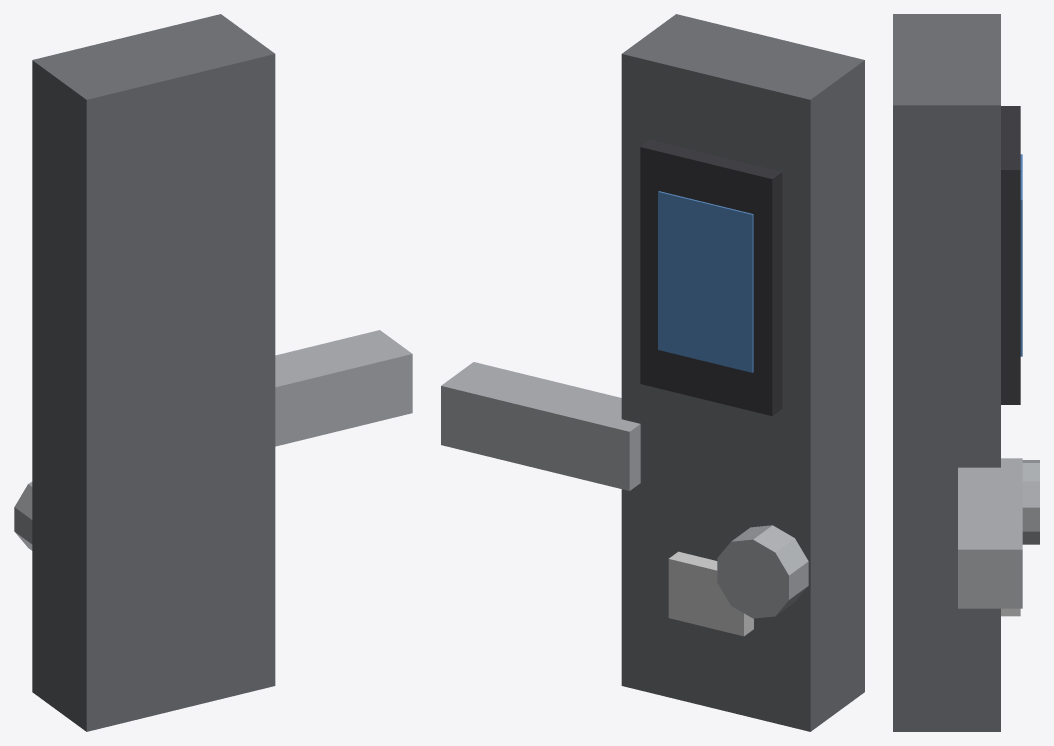
The model's file is eld_fechadura.glb.
3 renders of one model, left to right at view 1: azimuth 30°, elevation 25°; view 2: azimuth 150°, elevation 25°; view 3: azimuth 270°, elevation 25°, orthographic.
Visible parts, largest first — view 1: ELD_FECHADURA_v01; view 2: ELD_FECHADURA_v01; view 3: ELD_FECHADURA_v01.
Boxes of the visible parts, x1,y1,x2,y2 form: ELD_FECHADURA_v01: (14,14,412,731); ELD_FECHADURA_v01: (441,14,864,731); ELD_FECHADURA_v01: (893,14,1039,731).
Bounding box in the file's own units: 0.19 × 0.32 × 0.068.
